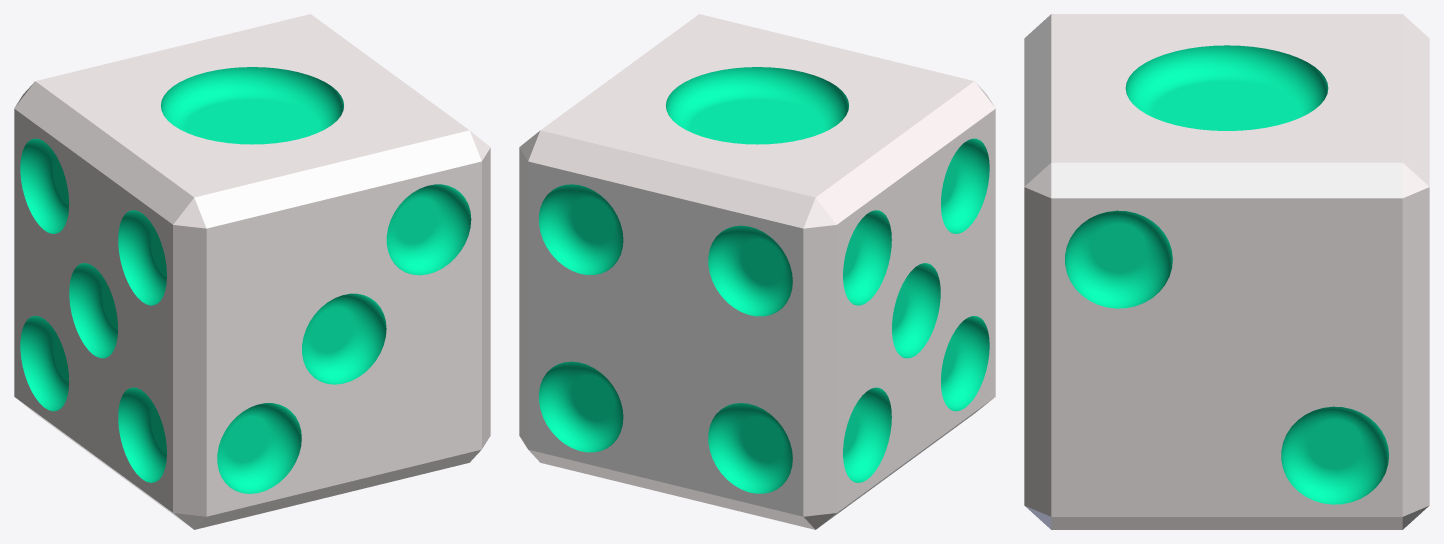
Rendered from saikoro.glb.
3 views of the same model, side by side, from view 1: azimuth 30°, elevation 25°; view 2: azimuth 150°, elevation 25°; view 3: azimuth 270°, elevation 25° (orthographic). The views are drawn at different scales.
Visible parts, largest first — view 1: saikoro; view 2: saikoro; view 3: saikoro.
Boxes of the visible parts, x1,y1,x2,y2 form: saikoro: (14,14,490,529); saikoro: (519,14,995,529); saikoro: (1024,14,1429,529).
Size of the model in its own units: 0.03 by 0.03 by 0.03.
